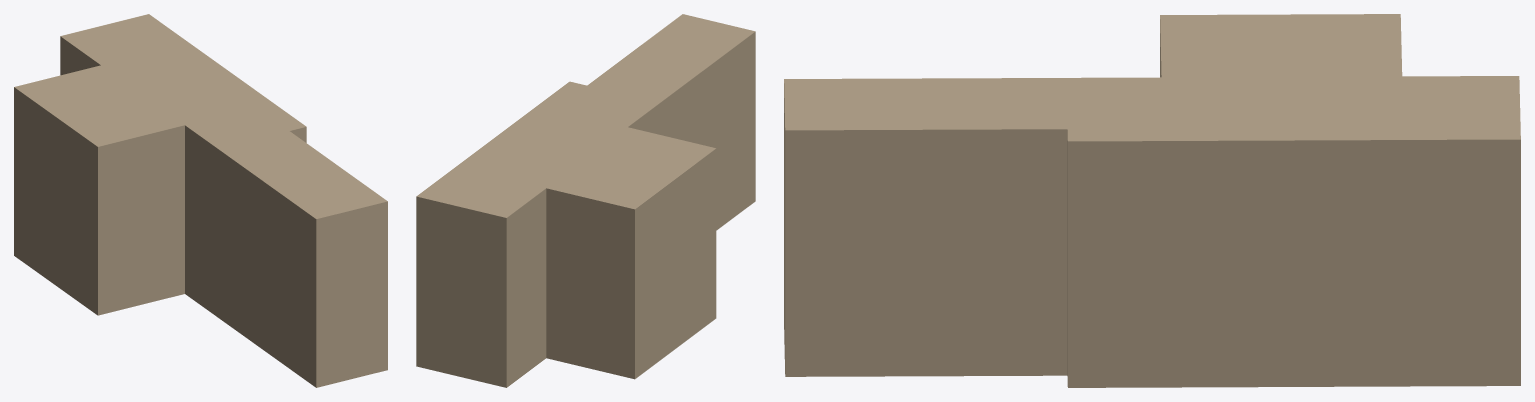
The model's file is bld_97718553.dae.
3 renders of one model, left to right at view 1: azimuth 30°, elevation 25°; view 2: azimuth 150°, elevation 25°; view 3: azimuth 270°, elevation 25°, orthographic. The views are drawn at different scales.
Visible parts, largest first — view 1: bld_97718553; view 2: bld_97718553; view 3: bld_97718553.
Boxes of the visible parts, left/top/right/bottom form: bld_97718553: left=14, top=14, right=387, bottom=387; bld_97718553: left=416, top=14, right=755, bottom=387; bld_97718553: left=784, top=14, right=1520, bottom=387.
Size of the model in its own units: 8.87 by 21.67 by 8.
